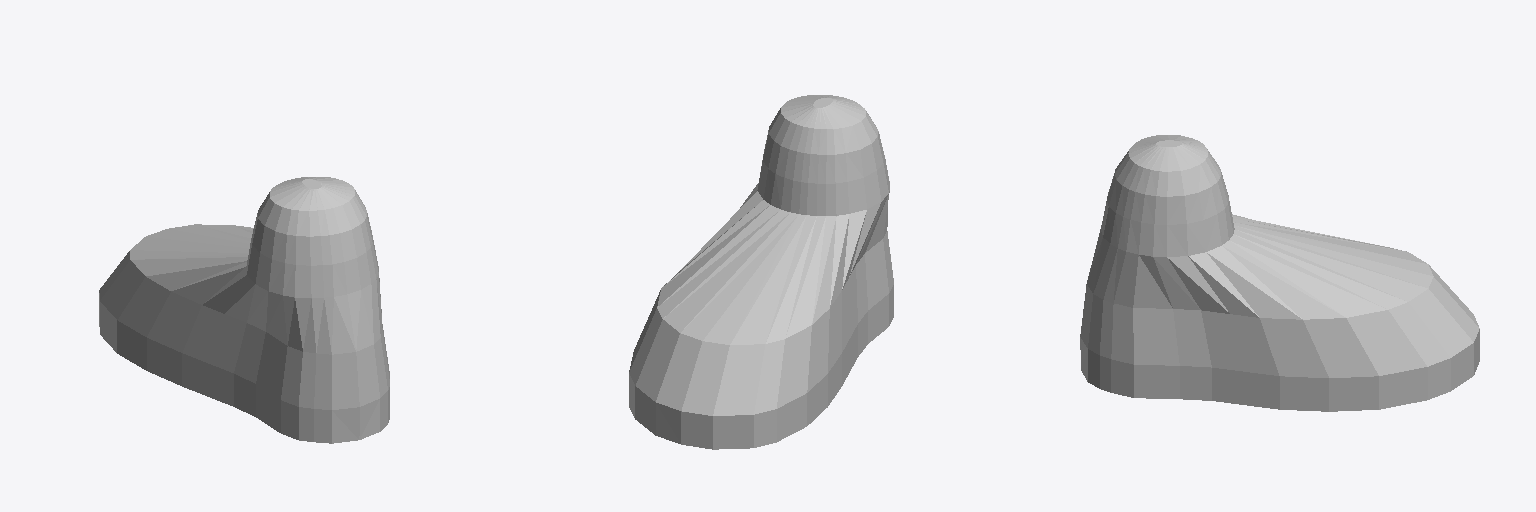
File: Knight_footRight.obj
3 renders of one model, left to right at view 1: azimuth 30°, elevation 25°; view 2: azimuth 150°, elevation 25°; view 3: azimuth 270°, elevation 25°, orthographic.
Parts seen in each view (by area): view 1: 足_右_立方体.001; view 2: 足_右_立方体.001; view 3: 足_右_立方体.001.
Boxes of the visible parts, box(x1,y1,x2,y2) form: 足_右_立方体.001: box(99, 177, 389, 443); 足_右_立方体.001: box(629, 95, 893, 449); 足_右_立方体.001: box(1080, 135, 1479, 411).
Size of the model in its own units: 0.875 by 1.06 by 1.7.